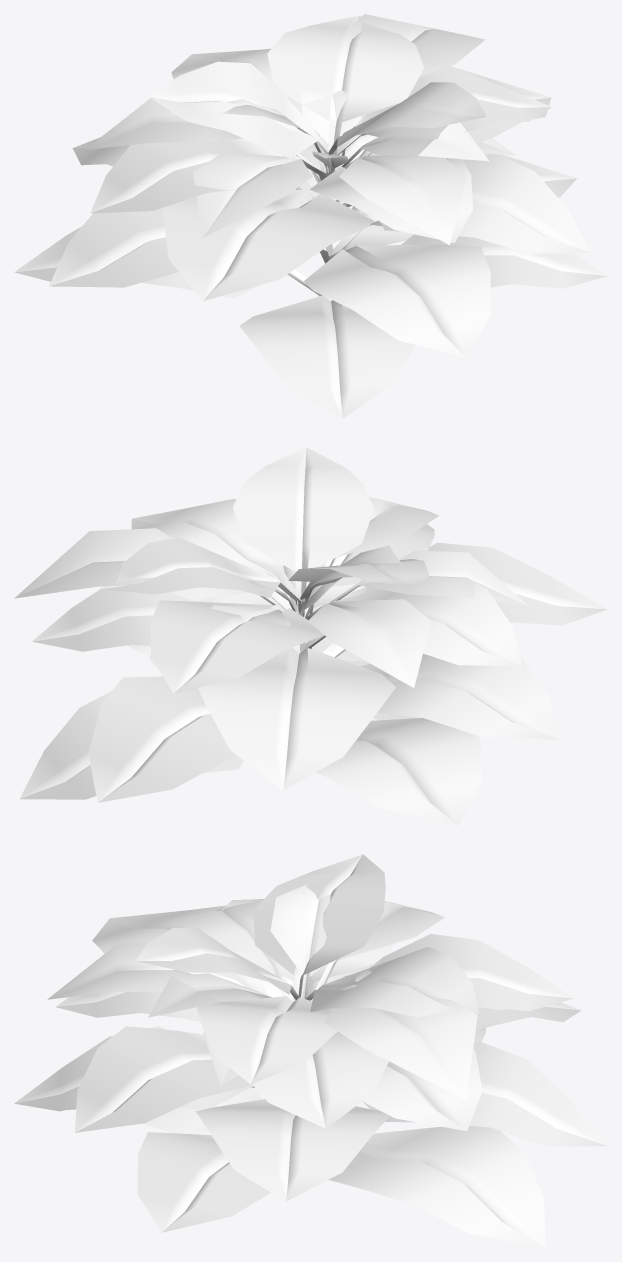
The model's file is PlantsBlue.fbx.
3 views of the same model, one above another, from view 1: azimuth 30°, elevation 25°; view 2: azimuth 150°, elevation 25°; view 3: azimuth 270°, elevation 25° (orthographic). The views are drawn at different scales.
Visible parts, largest first — view 1: Plane.003, Plane.007; view 2: Plane.003, Plane.007; view 3: Plane.003, Plane.007.
Boxes of the visible parts, box(x1,y1,x2,y2) form: Plane.003: box(14, 15, 607, 418); Plane.007: box(85, 14, 516, 245); Plane.003: box(20, 447, 607, 825); Plane.007: box(14, 497, 528, 687); Plane.003: box(14, 854, 607, 1247); Plane.007: box(47, 883, 504, 1099).
Size of the model in its own units: 863 by 394 by 847.
